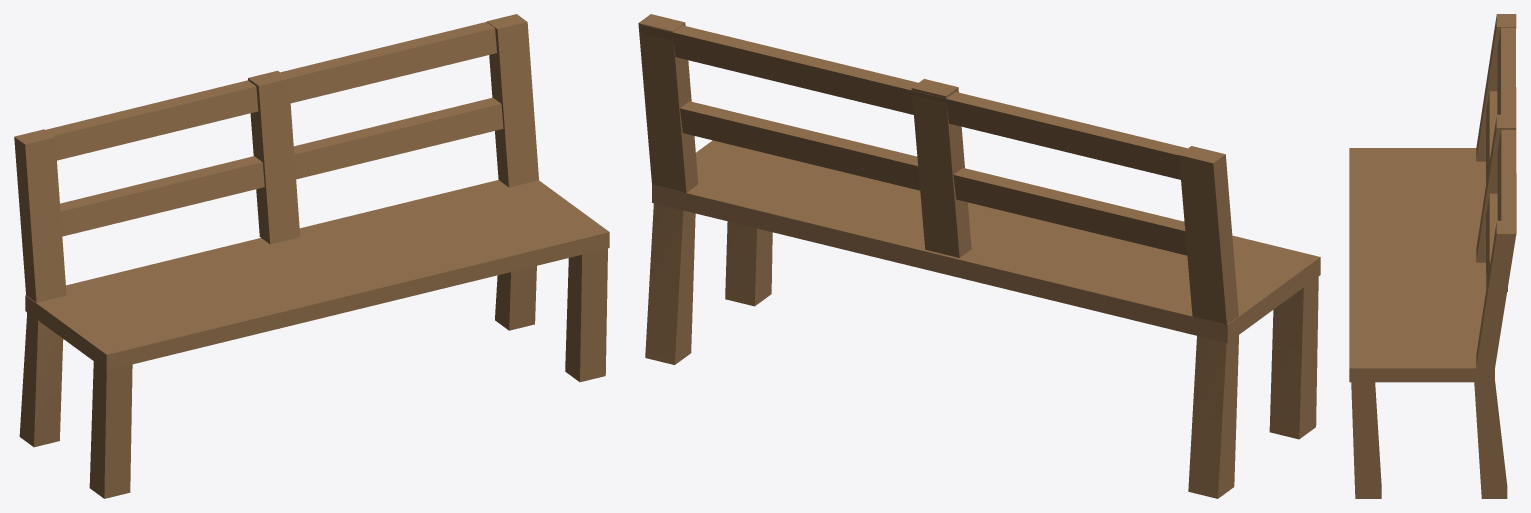
The model's file is banc 01.fbx.
The picture shows the model from 3 angles, left to right: view 1: azimuth 30°, elevation 25°; view 2: azimuth 150°, elevation 25°; view 3: azimuth 270°, elevation 25°; orthographic projection. The views are drawn at different scales.
Visible parts, largest first — view 1: banc_01; view 2: banc_01; view 3: banc_01.
Boxes of the visible parts, bbox=[...] form: banc_01: bbox=[14, 14, 609, 498]; banc_01: bbox=[638, 14, 1320, 498]; banc_01: bbox=[1349, 14, 1516, 498].
Bounding box in the file's own units: 165 × 93.48 × 53.
